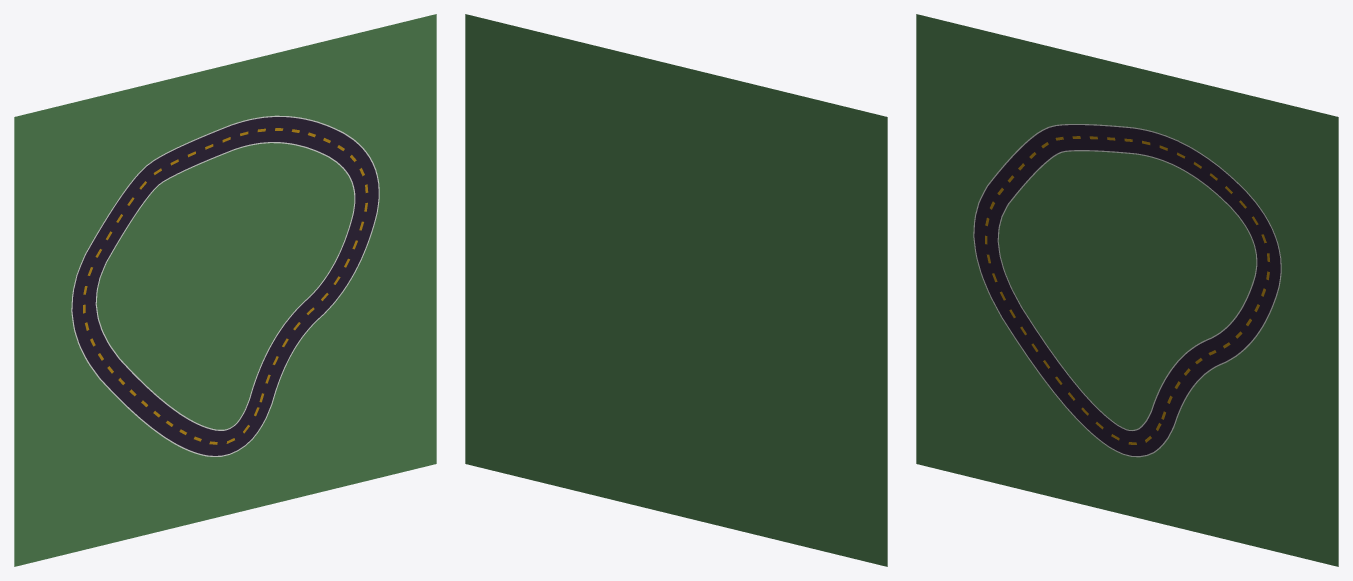
File: track.obj
3 renders of one model, left to right at view 1: azimuth 30°, elevation 25°; view 2: azimuth 150°, elevation 25°; view 3: azimuth 330°, elevation 25°, orthographic.
Size of the model in its own units: 15.58 by 15.87 by 0.0025.
4 materials, 4 textured.
